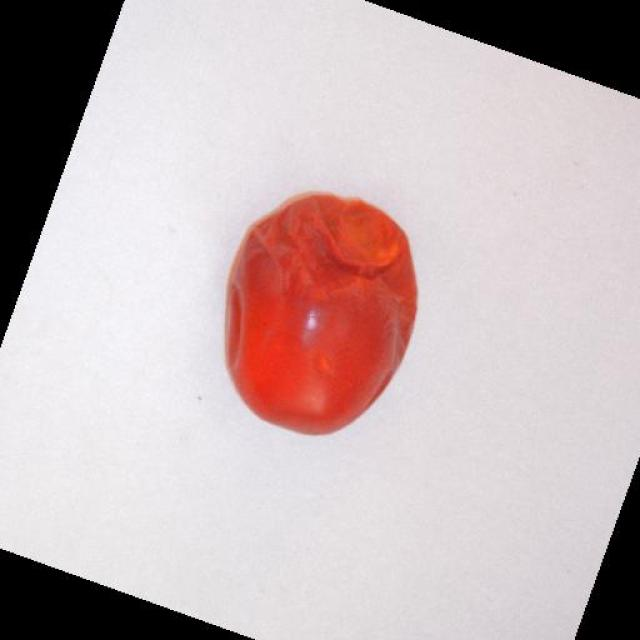Stale_tomato: (217, 177, 423, 446)
